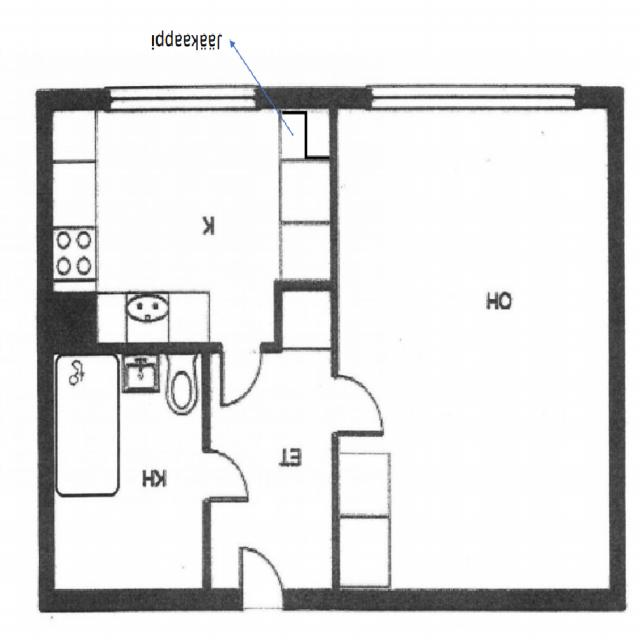door: (330, 374, 385, 436), (240, 532, 282, 611), (220, 342, 262, 408), (202, 449, 249, 502)
